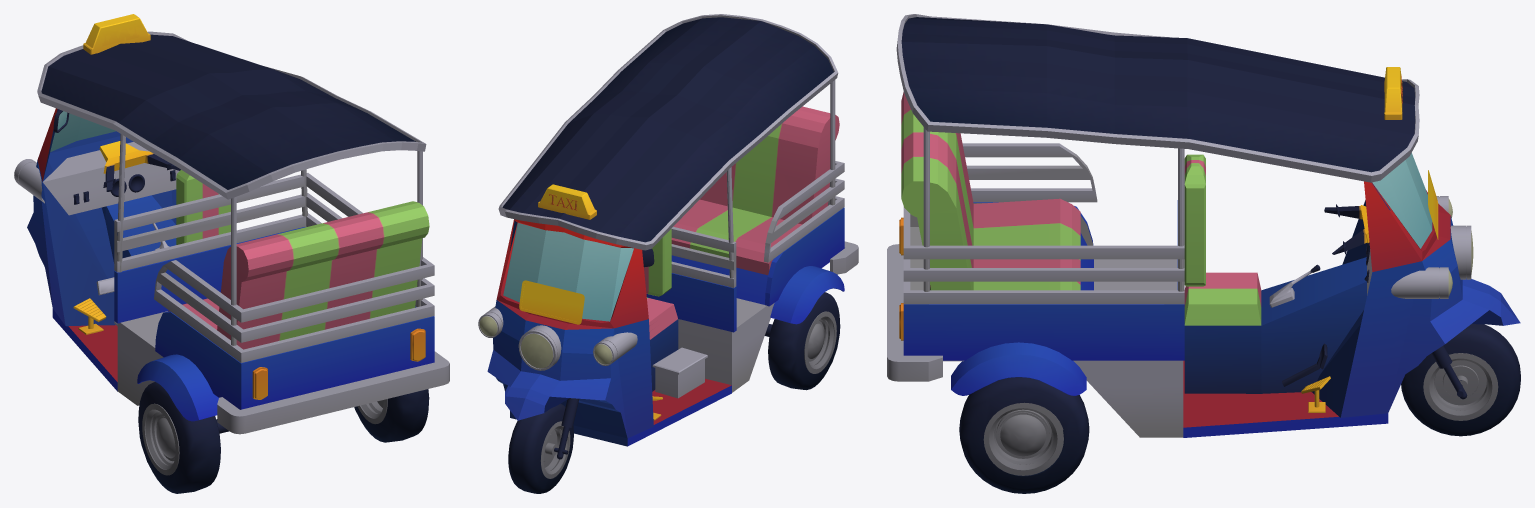
The model's file is Fix_tuktuk.fbx.
3 views of the same model, side by side, from view 1: azimuth 30°, elevation 25°; view 2: azimuth 150°, elevation 25°; view 3: azimuth 270°, elevation 25° (orthographic). The views are drawn at different scales.
Parts seen in each view (by area): view 1: pCylinder13.001, pCylinder13.002; view 2: pCylinder13.001, pCylinder13.002; view 3: pCylinder13.001, pCylinder13.002.
Part boxes in pixels (x1,y1,x2,y2): pCylinder13.001: (14, 14, 449, 493); pCylinder13.002: (50, 113, 115, 151); pCylinder13.001: (478, 14, 858, 493); pCylinder13.002: (503, 223, 633, 321); pCylinder13.001: (887, 14, 1520, 493); pCylinder13.002: (1372, 153, 1432, 248).
Bounding box in the file's own units: 376 × 499 × 734.
1 material, 1 textured.
